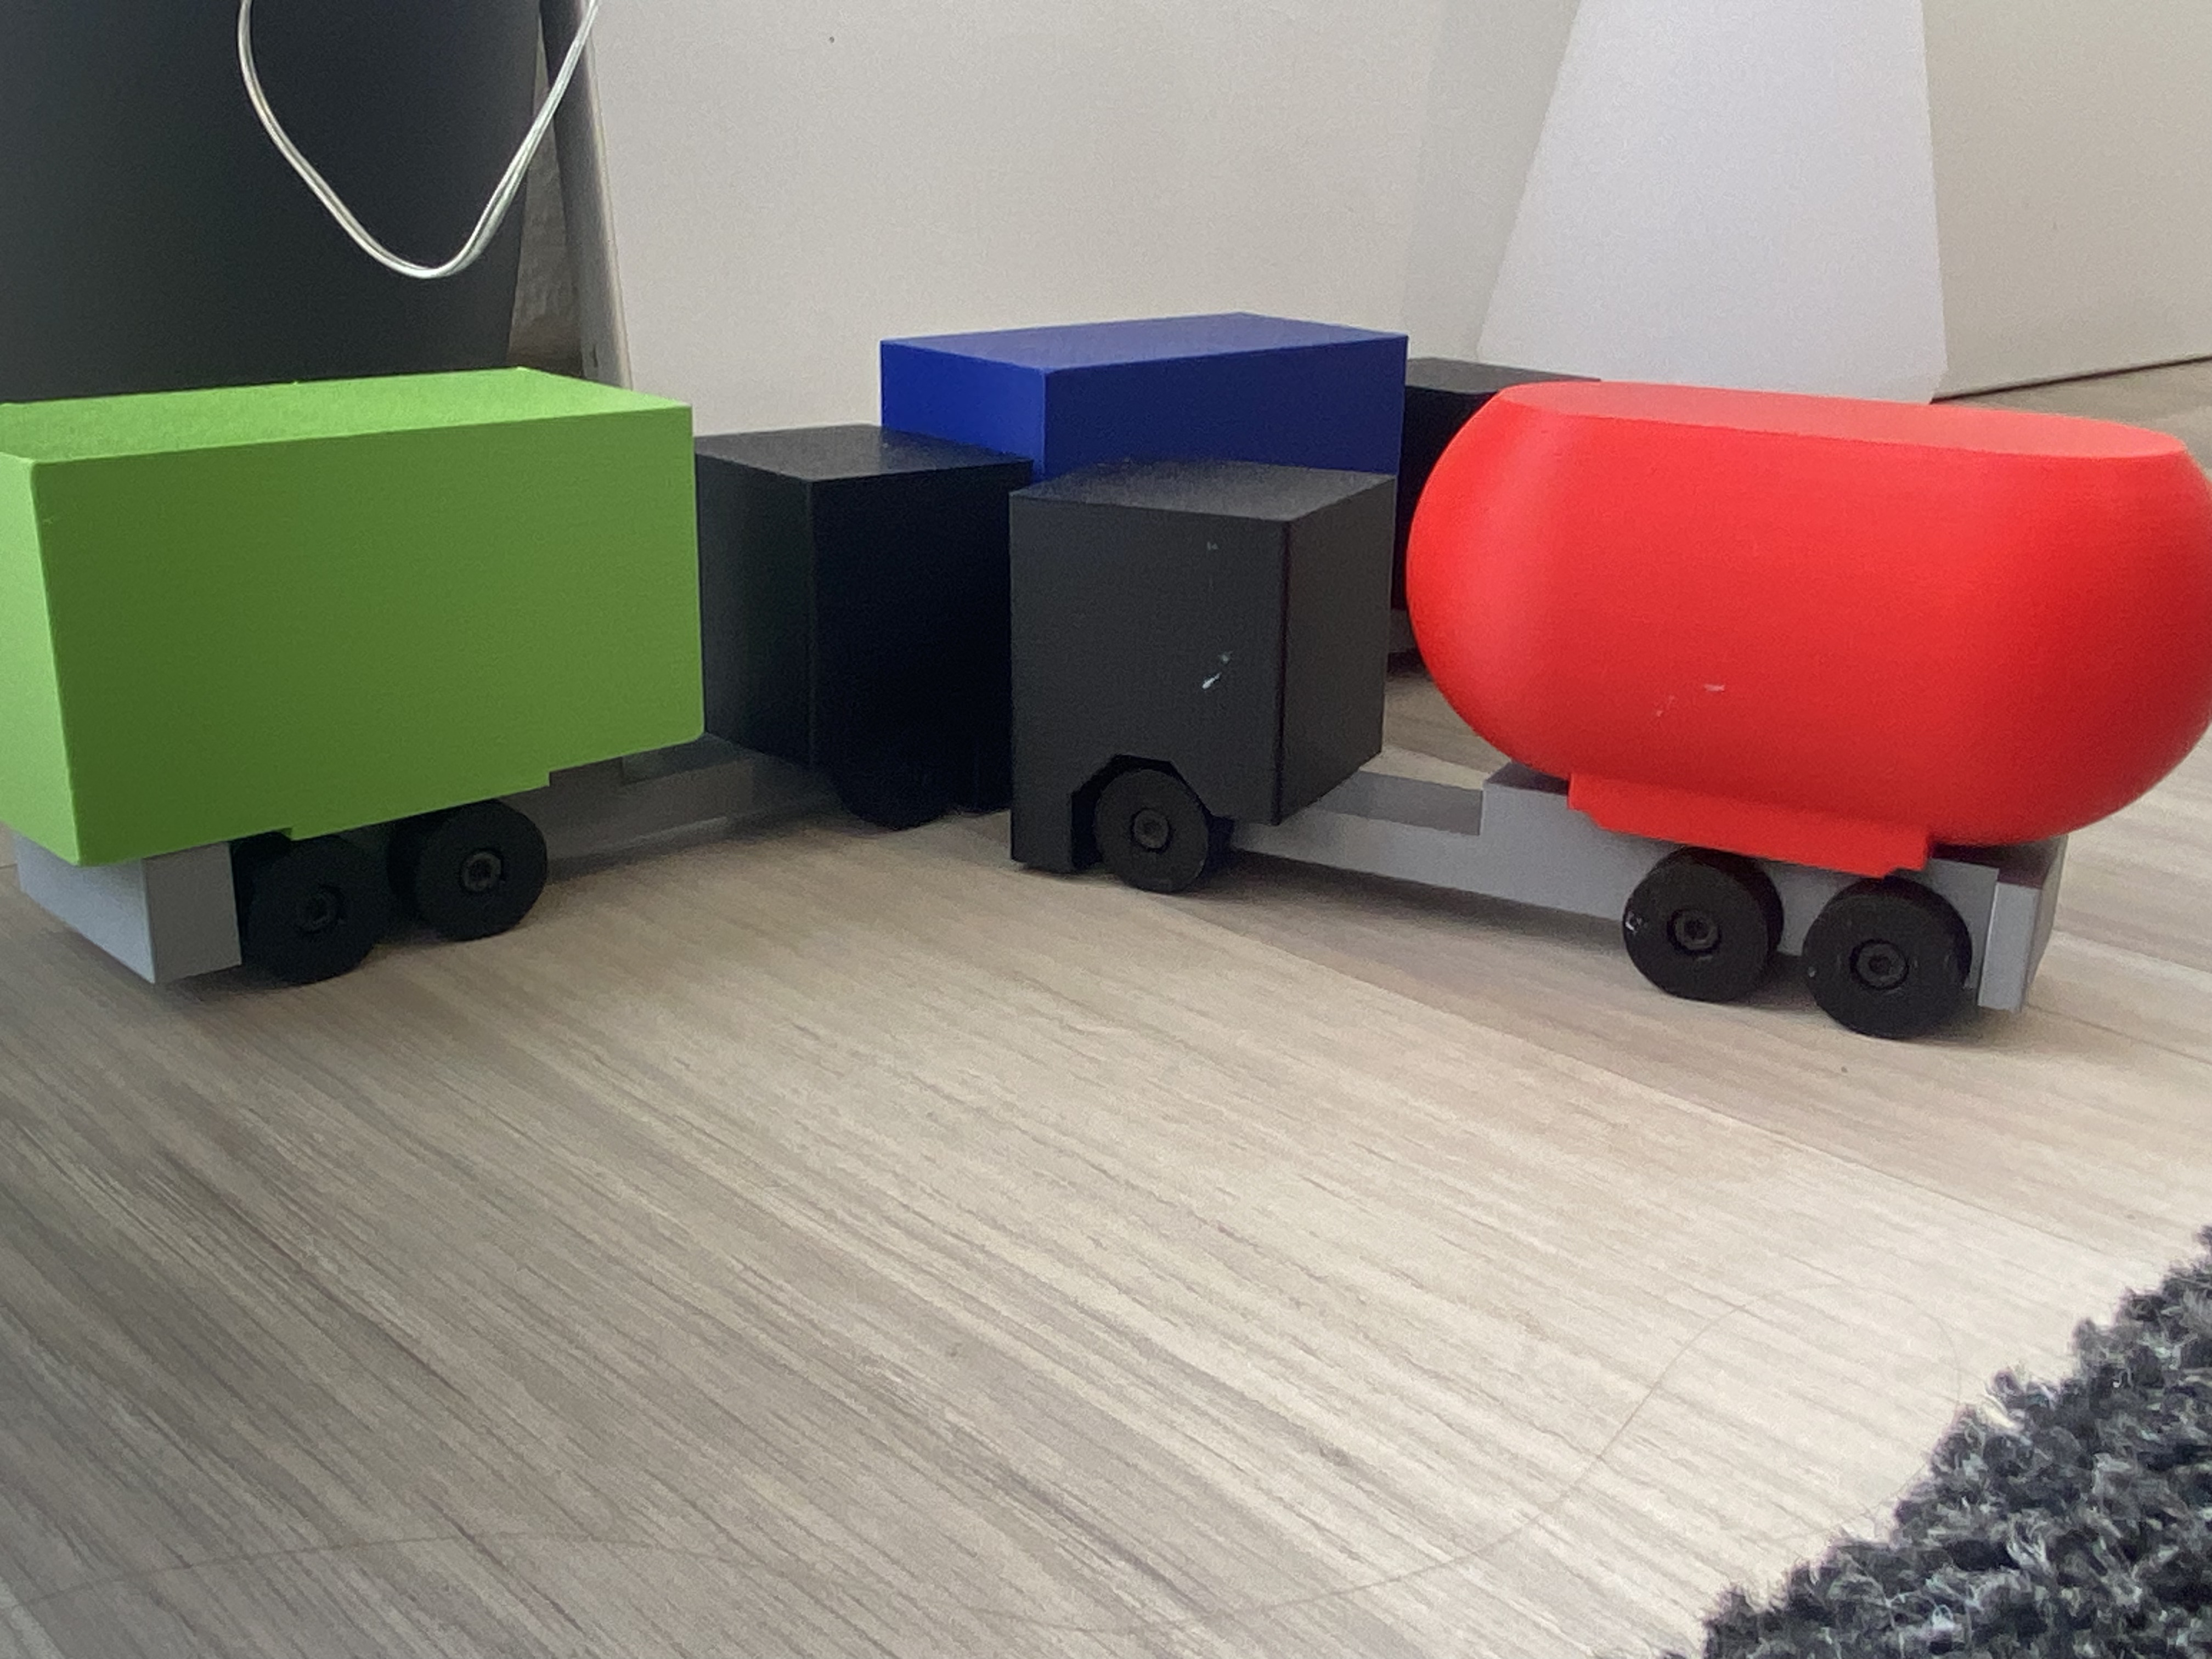blue_truck: (1125, 71, 1390, 817)
green_truck: (444, 324, 1000, 976)
red_truck: (1238, 112, 1853, 1222)
